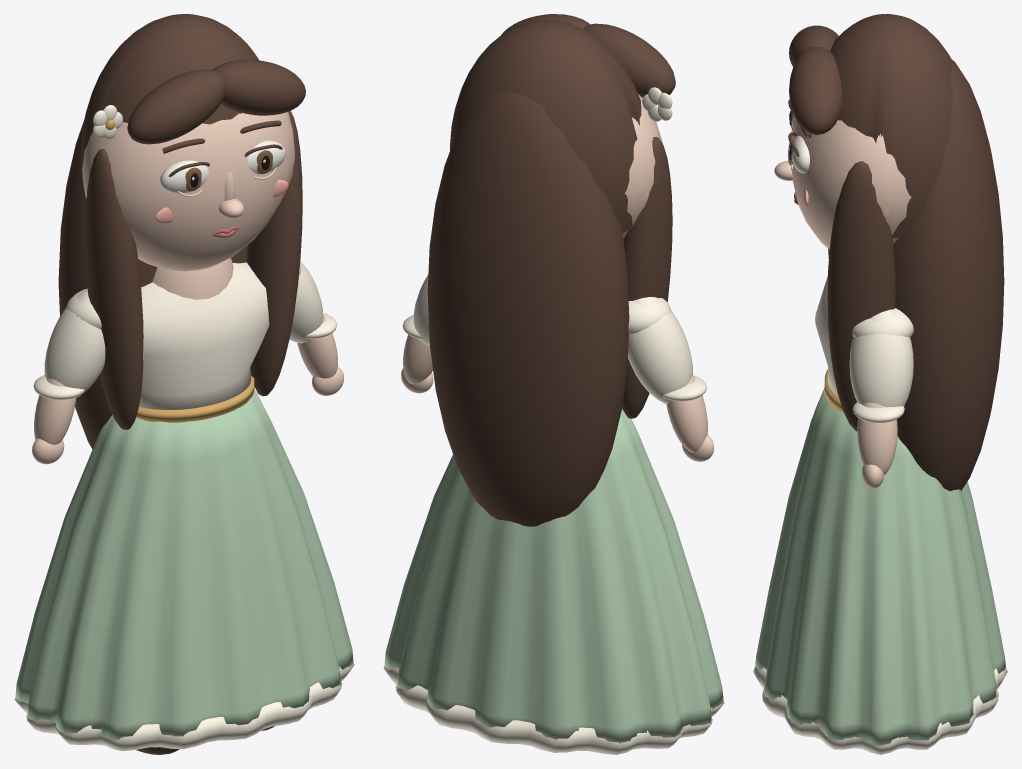
File: keeper.glb
3 renders of one model, left to right at view 1: azimuth 30°, elevation 25°; view 2: azimuth 150°, elevation 25°; view 3: azimuth 270°, elevation 25°, orthographic.
Visible parts, largest first — view 1: OutfitSkirt, Face, OutfitBodice, SoftSideLock-1, HairCap, SoftSideLock1, HairBack, OutfitUnderskirt, SweptFringe-1, SweptFringe1, OutfitSleeveL, Neck (+11 smaller); view 2: OutfitSkirt, HairBack, HairCap, SoftSideLock-1, OutfitUnderskirt, OutfitSleeveL, SweptFringe-1, Face, ForearmL, ForearmR, OutfitShoulderL, HairFlowerPetal (+2 smaller); view 3: OutfitSkirt, HairBack, HairCap, SoftSideLock1, Face, OutfitSleeveR, SweptFringe1, OutfitUnderskirt, ForearmR, SweptFringe-1, OutfitShoulderR, OutfitBodice (+2 smaller).
Boxes of the visible parts, x1,y1,x2,y2 form: OutfitSkirt: (15,388,353,739); Face: (82,112,294,271); OutfitBodice: (139,262,269,409); SoftSideLock-1: (85,149,143,429); HairCap: (81,14,258,199); SoftSideLock1: (247,111,302,396); HairBack: (58,119,247,449); OutfitUnderskirt: (14,663,354,751); SweptFringe-1: (127,69,224,144); SweptFringe1: (213,59,305,115); OutfitSleeveL: (44,289,105,397); Neck: (152,258,233,299); OutfitSkirt: (384,409,723,743); HairBack: (427,92,629,526); HairCap: (450,20,641,232); SoftSideLock-1: (622,137,672,418); OutfitUnderskirt: (383,666,724,754); OutfitSleeveL: (628,297,692,403); SweptFringe-1: (583,23,675,97); Face: (622,94,662,238); ForearmL: (666,375,707,452); ForearmR: (403,334,432,384); OutfitShoulderL: (628,298,671,334); HairFlowerPetal: (642,87,672,121); OutfitSkirt: (755,388,1005,745); HairBack: (893,59,1004,490); HairCap: (830,14,952,238); SoftSideLock1: (827,161,895,431); Face: (790,119,911,249); OutfitSleeveR: (849,309,913,407); SweptFringe1: (789,46,842,134); OutfitUnderskirt: (753,667,1007,754); ForearmR: (857,402,897,474); SweptFringe-1: (789,25,838,66); OutfitShoulderR: (852,308,913,337); OutfitBodice: (815,276,838,396).
Size of the model in its own units: 0.7228 by 1.55 by 0.5142.
